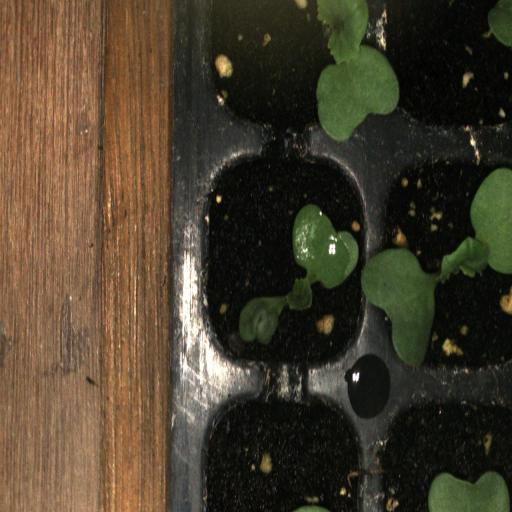Folha: (304, 0, 399, 145), (428, 471, 512, 512), (177, 16, 224, 75)
Germinacao: (195, 140, 375, 386), (377, 140, 512, 389)
